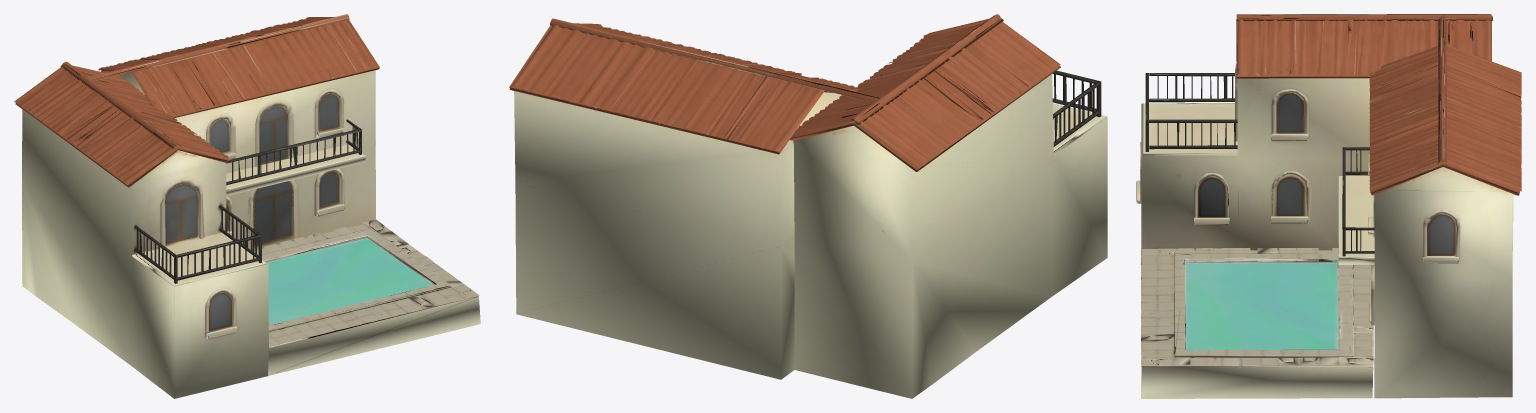
Rendered from 08-villa-with-pool.glb.
3 views of the same model, side by side, from view 1: azimuth 30°, elevation 25°; view 2: azimuth 150°, elevation 25°; view 3: azimuth 270°, elevation 25° (orthographic). The views are drawn at different scales.
Visible parts, largest first — view 1: geometry_0; view 2: geometry_0; view 3: geometry_0.
Part boxes in pixels (x1,y1,x2,y2): geometry_0: (14,14,480,398); geometry_0: (509,14,1107,398); geometry_0: (1136,14,1521,398).
Size of the model in its own units: 0.6792 by 0.4414 by 0.6401.
1 material, 1 textured.
